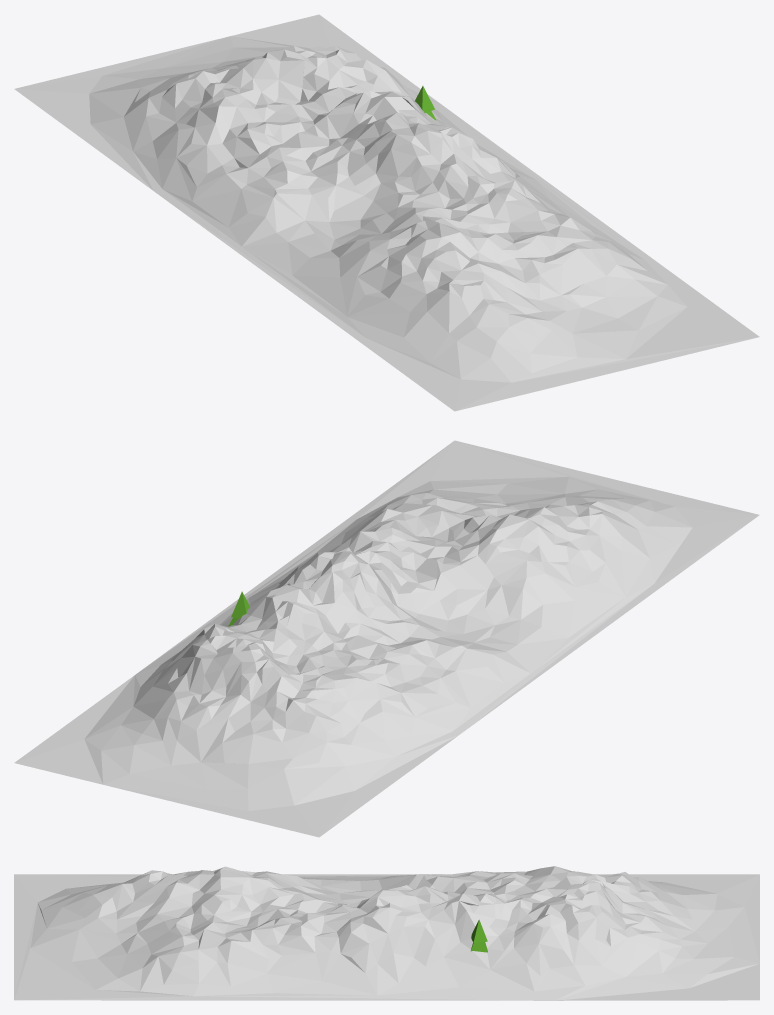
Rendered from Mountain2.fbx.
3 views of the same model, one above another, from view 1: azimuth 30°, elevation 25°; view 2: azimuth 150°, elevation 25°; view 3: azimuth 270°, elevation 25° (orthographic). The views are drawn at different scales.
Visible parts, largest first — view 1: Landscape.001; view 2: Landscape.001; view 3: Landscape.001, Cube.
Part boxes in pixels (box(x1,y1,x2,y2)): Landscape.001: box(14, 14, 759, 411); Landscape.001: box(14, 440, 759, 837); Landscape.001: box(14, 866, 759, 1000); Cube: box(471, 919, 487, 952).
Bounding box in the file's own units: 200 × 47.76 × 500.
